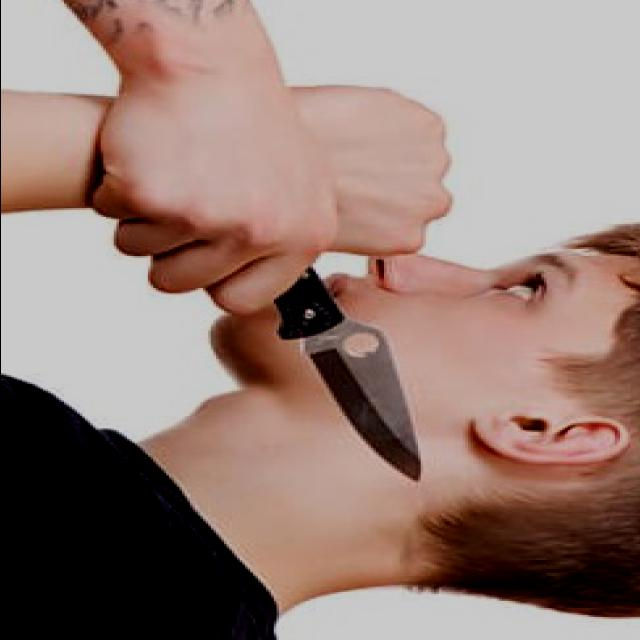knife: (155, 194, 435, 489)
